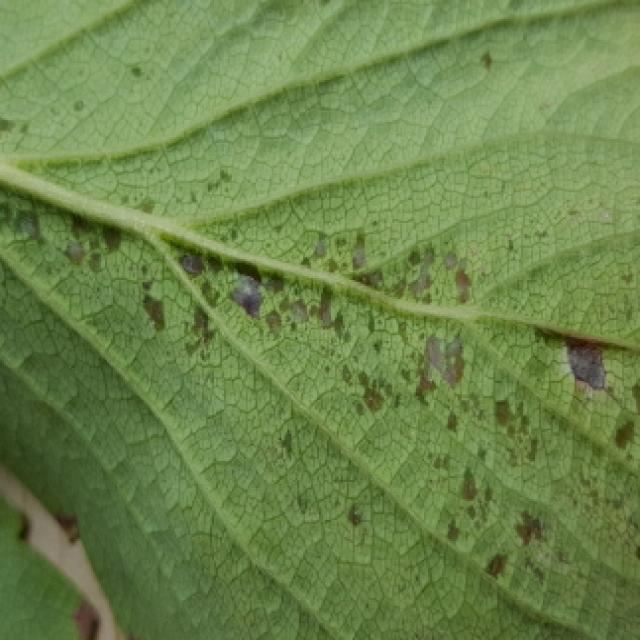Angular Leafspot: (0, 0, 640, 640)
